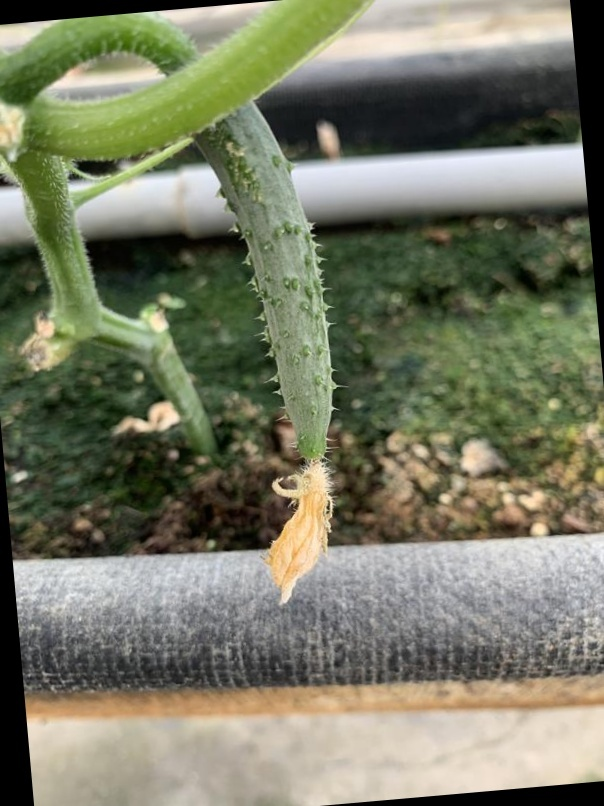bear: (193, 97, 390, 615)
growth: (197, 99, 375, 597)
